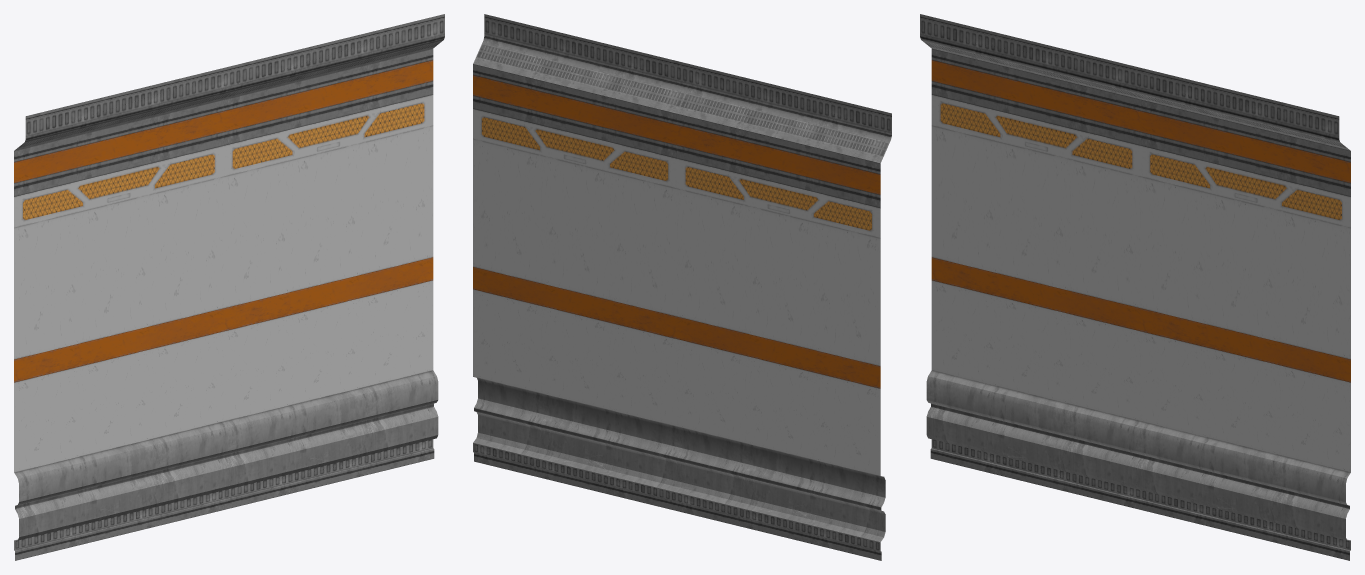
File: WallLarge.fbx
The picture shows the model from 3 angles, left to right: view 1: azimuth 30°, elevation 25°; view 2: azimuth 150°, elevation 25°; view 3: azimuth 330°, elevation 25°; orthographic projection. The views are drawn at different scales.
Visible parts, largest first — view 1: WallLarge; view 2: WallLarge; view 3: WallLarge.
Part boxes in pixels (x1,y1,x2,y2): WallLarge: (14, 14, 444, 560); WallLarge: (473, 14, 891, 560); WallLarge: (920, 14, 1350, 560).
Bounding box in the file's own units: 8.49 × 8.76 × 0.4041.
